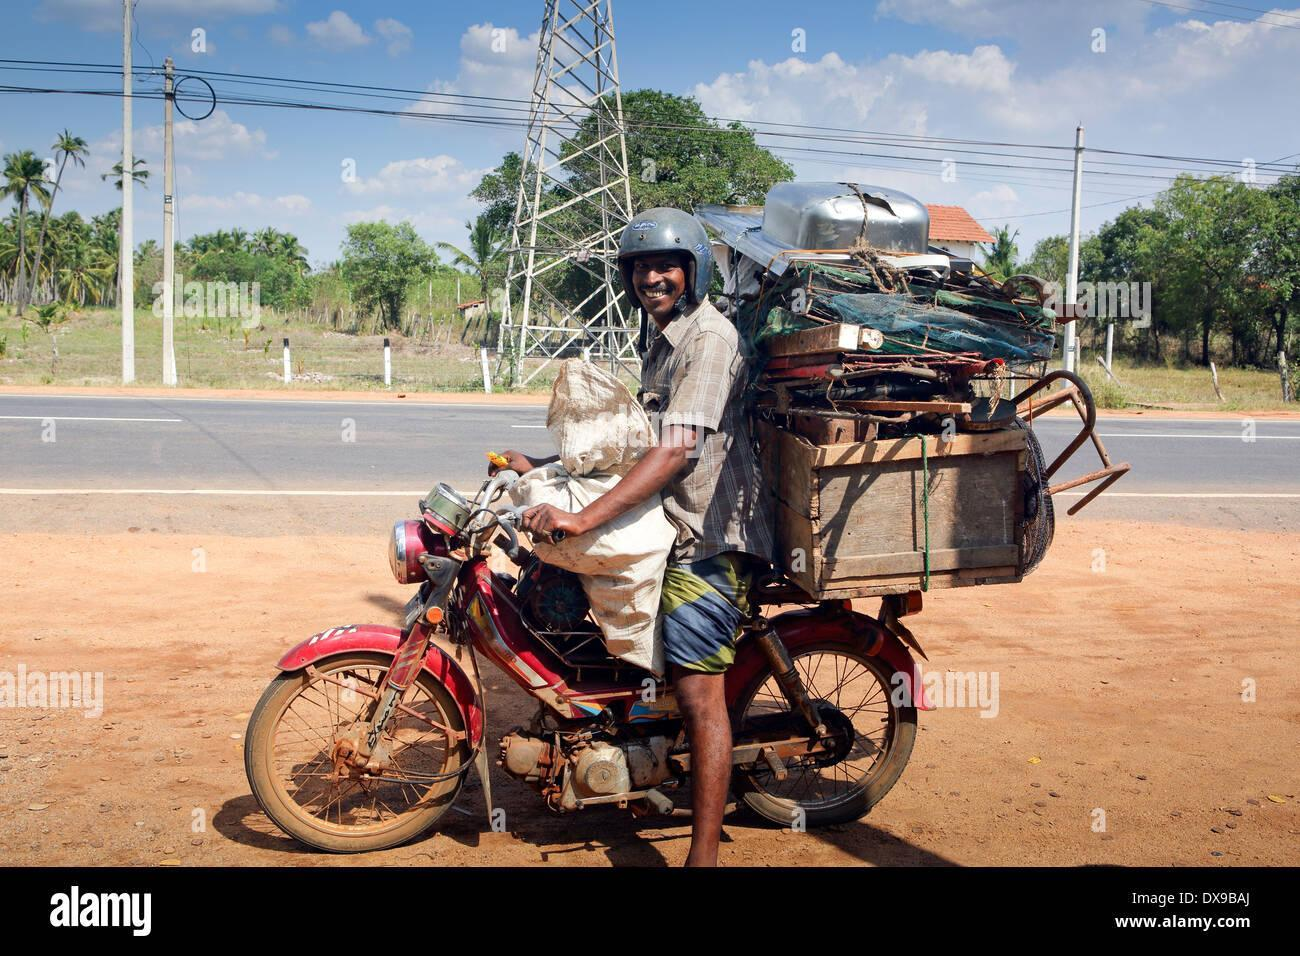motorbike: (241, 453, 917, 854)
